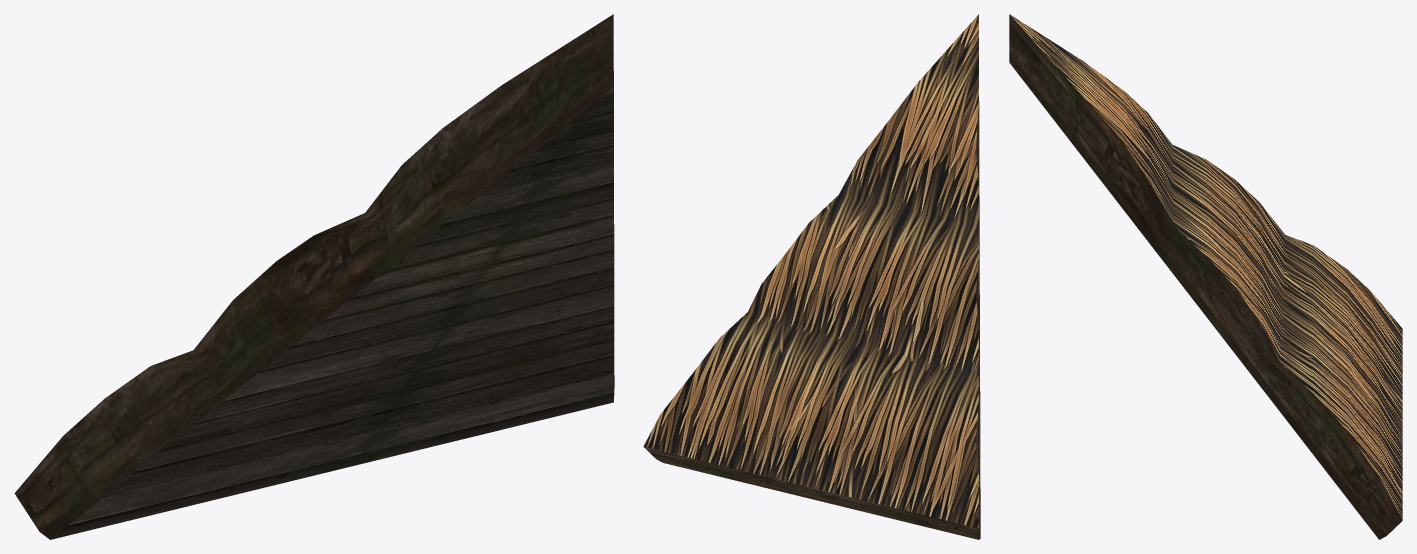
3 renders of one model, left to right at view 1: azimuth 30°, elevation 25°; view 2: azimuth 150°, elevation 25°; view 3: azimuth 270°, elevation 25°, orthographic. The views are drawn at different scales.
Parts seen in each view (by area): view 1: SM_BB_T1_Extended_Roof_Triangle_Large_Inverted_LOD0; view 2: SM_BB_T1_Extended_Roof_Triangle_Large_Inverted_LOD0; view 3: SM_BB_T1_Extended_Roof_Triangle_Large_Inverted_LOD0.
Boxes of the visible parts, box(x1,y1,x2,y2) form: SM_BB_T1_Extended_Roof_Triangle_Large_Inverted_LOD0: box(14, 14, 614, 539); SM_BB_T1_Extended_Roof_Triangle_Large_Inverted_LOD0: box(643, 14, 980, 539); SM_BB_T1_Extended_Roof_Triangle_Large_Inverted_LOD0: box(1009, 14, 1402, 539).
Bounding box in the file's own units: 3.19 × 3.37 × 2.76.
Materials: 3 (3 with a texture image).
